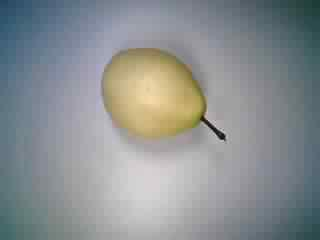pear: (92, 40, 236, 157)
